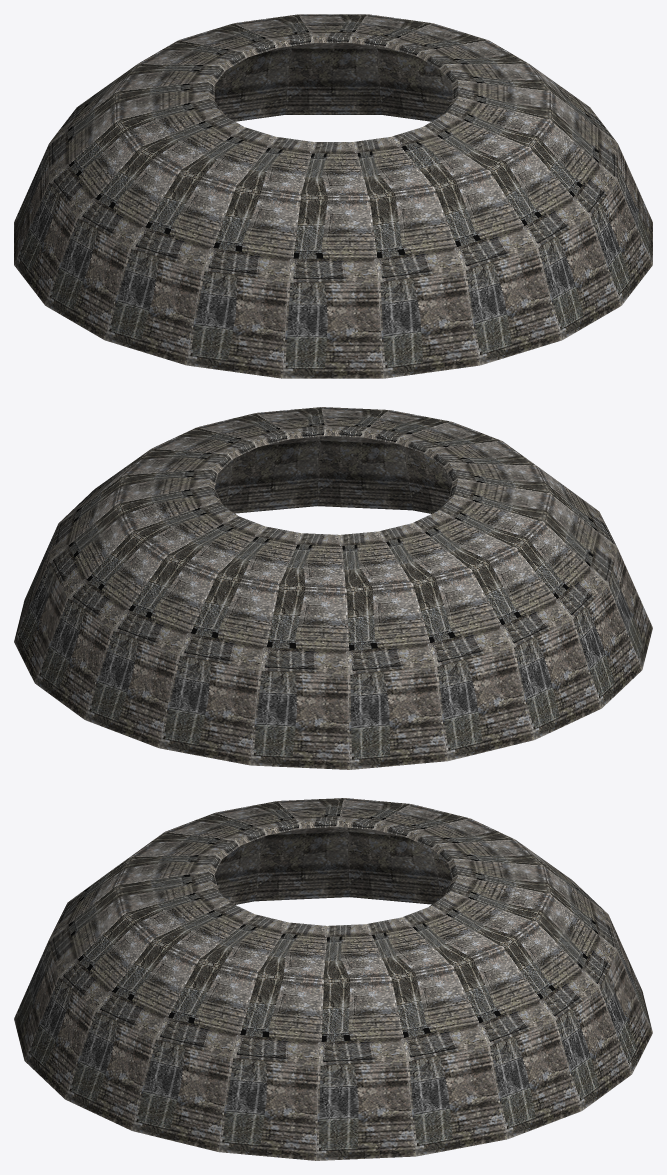
File: RuinDom.FBX
3 renders of one model, top to bottom at view 1: azimuth 30°, elevation 25°; view 2: azimuth 150°, elevation 25°; view 3: azimuth 270°, elevation 25°, orthographic.
Visible parts, largest first — view 1: RuinDom; view 2: RuinDom; view 3: RuinDom.
Part boxes in pixels (x1=…): RuinDom: x1=14, y1=14, x2=652, y2=378; RuinDom: x1=14, y1=407, x2=652, y2=769; RuinDom: x1=14, y1=798, x2=652, y2=1160.
Size of the model in its own units: 1414 by 373 by 1414.
